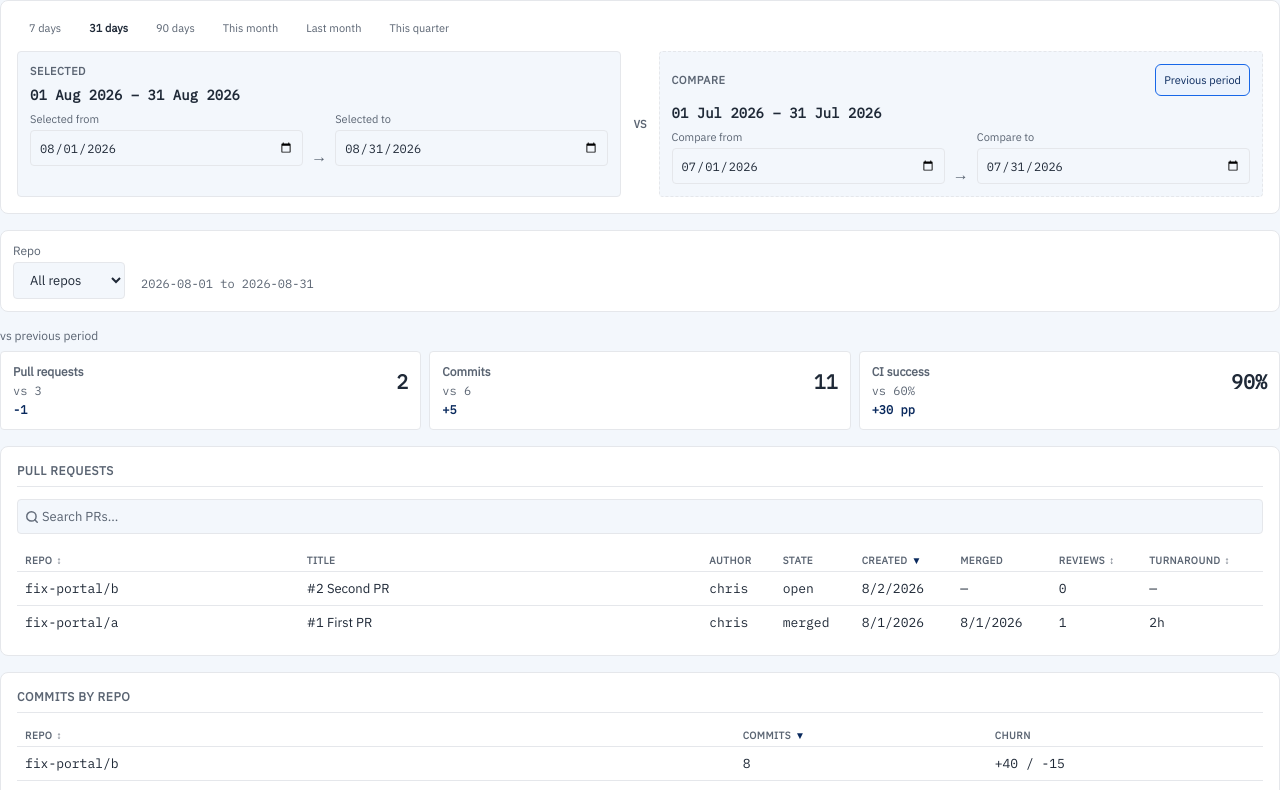
Test: GitHubPage › applies the selected repo to pull requests, commits, and CI
The image size is (1280, 790).
Select "fix-portal/a" in the dropdown labelled "Repo" at (69,280), box [13,262,125,299]
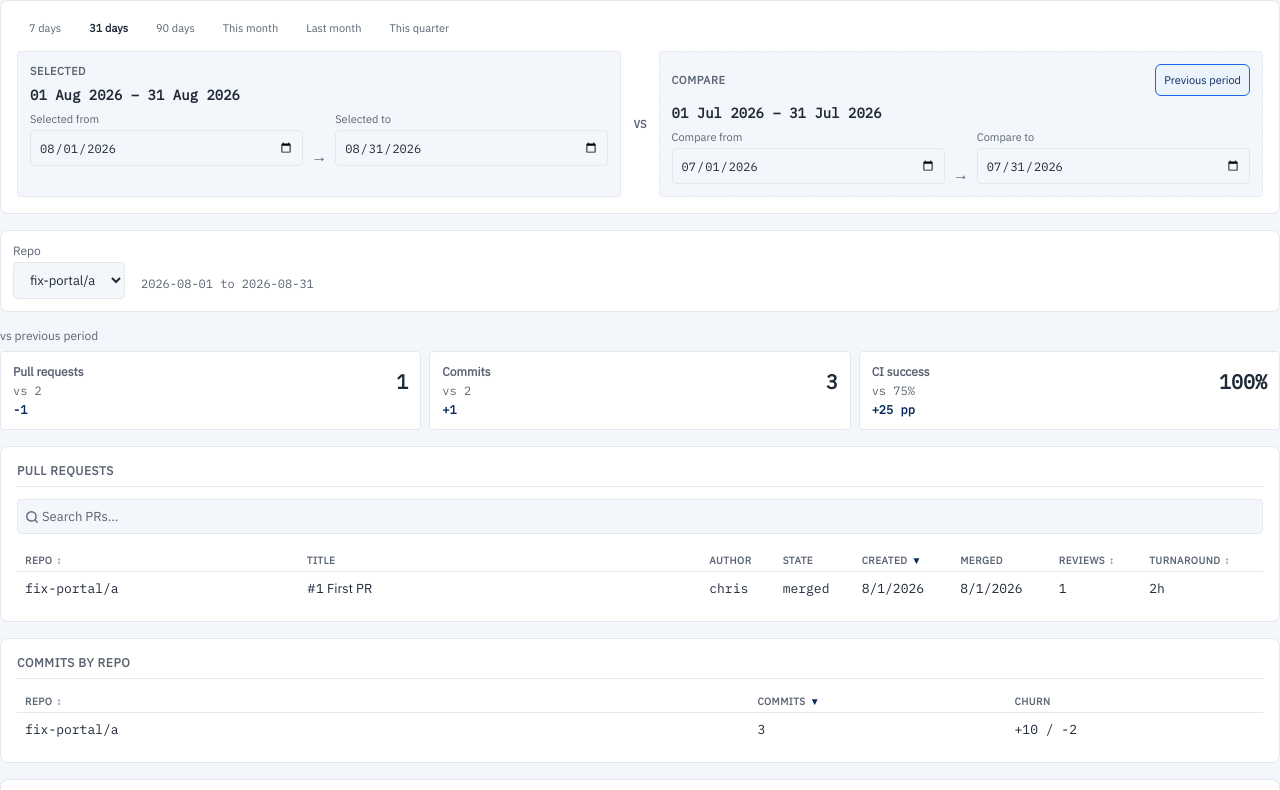
expect the text "Second PR" is gone: met
expect no cells "fix-portal/b" are shown: met
expect the number of cells "fix-portal/a" is 3: met
